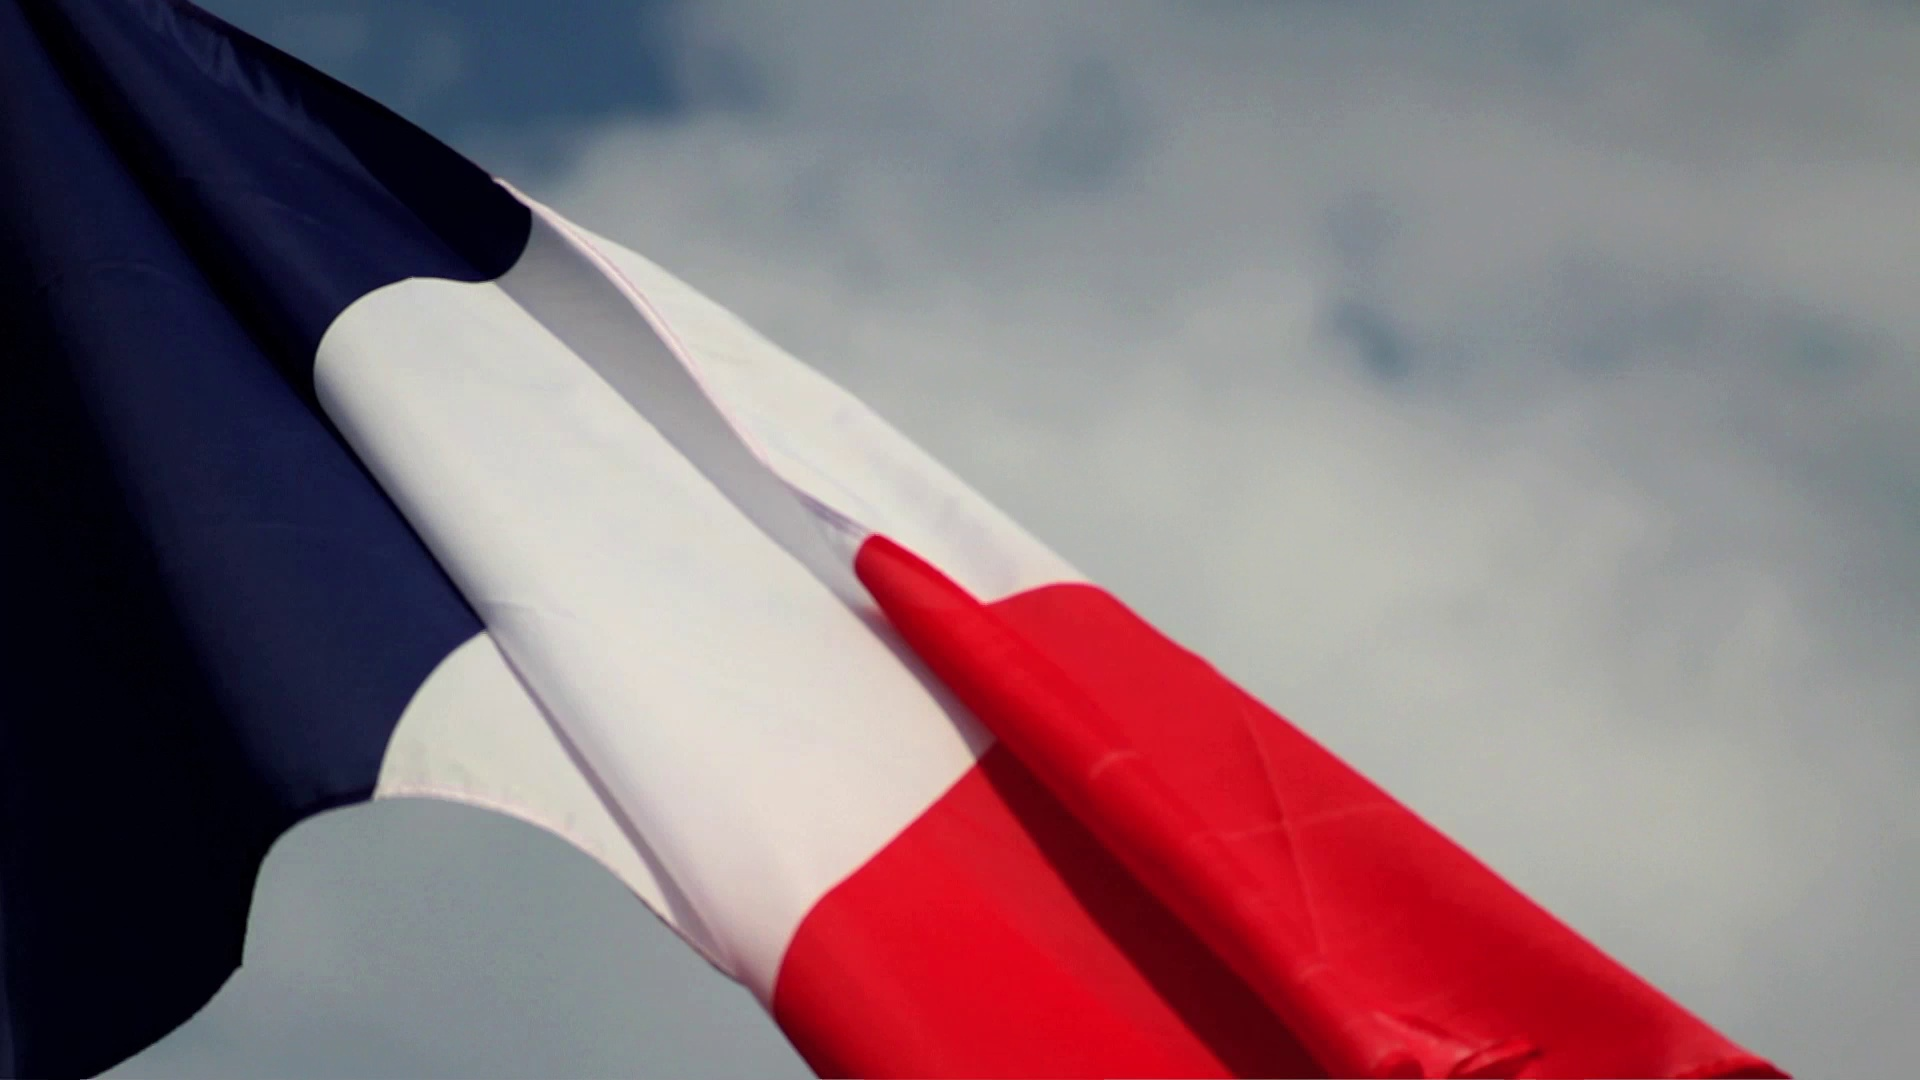French Flag: (1, 1, 1787, 1080)
